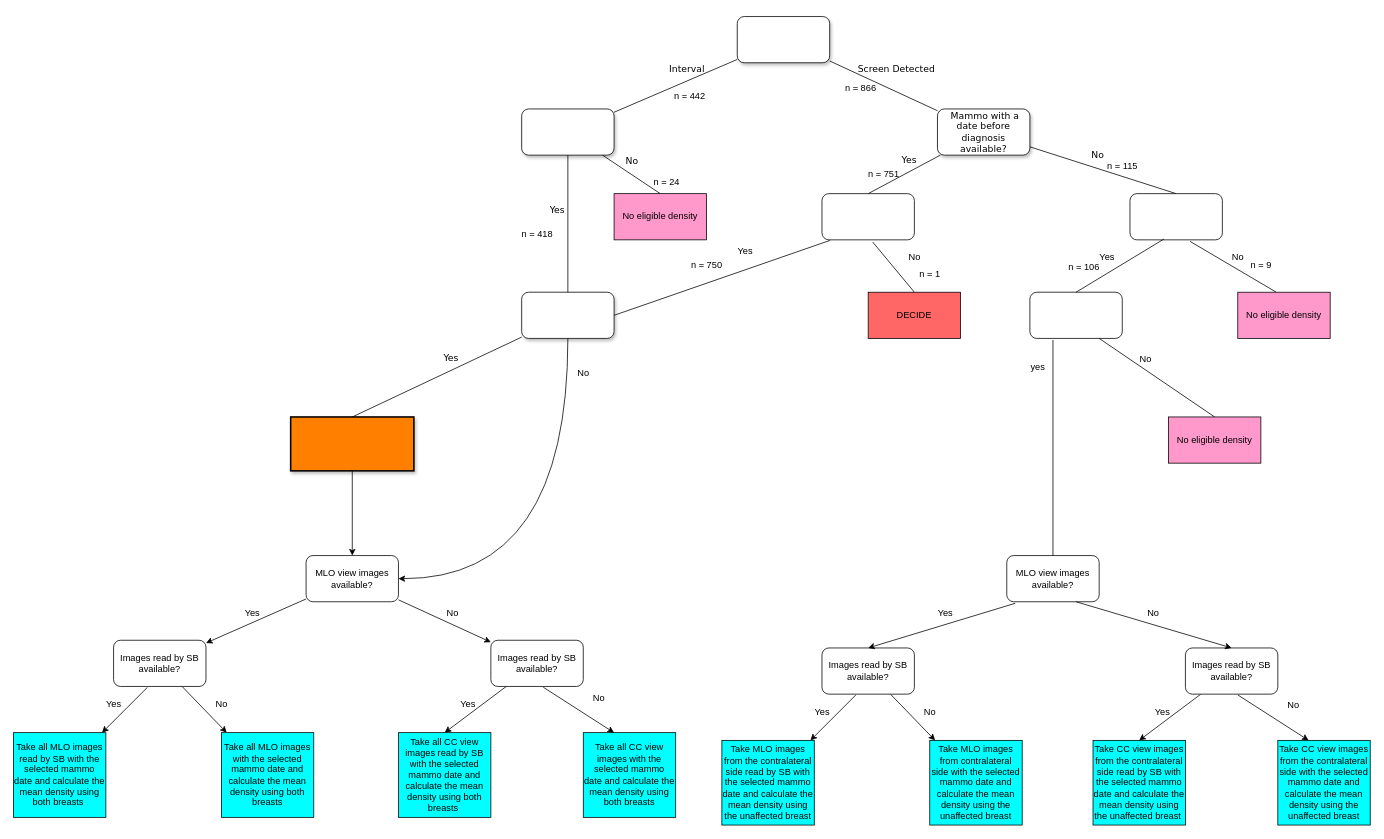
The diagram is 1384 pixels wide and 839 high, and some of its shapes have lost their labels. Here are the shapes that lost their labels. From the top down, the centre of each, then its label:
[783,40]: Dmode v2 is?
[568,133]: Mammo date at least 3m before diagnosis?
[867,216]: Mammo date at least 1 year before diagnosis?
[1175,216]: Diagnostic mamo available? (3m before to 3m after diagnosis?)
[568,316]: More than 1 eligible mammo dates?
[1075,314]: Contralateral site available?
[352,445]: Select the rows with the mammo date directly before diagnosis date
